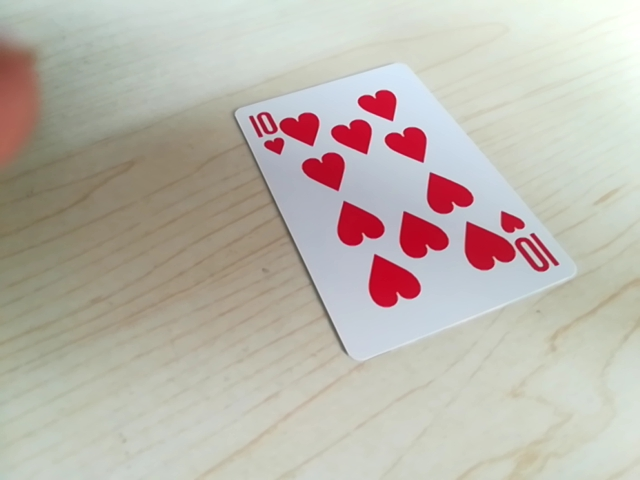hx 10: (500, 225, 557, 275), (243, 104, 289, 152)
